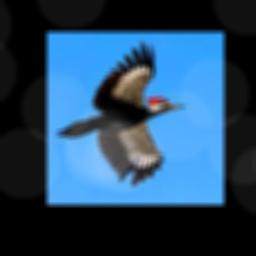Woodpecker: (56, 39, 185, 186)
